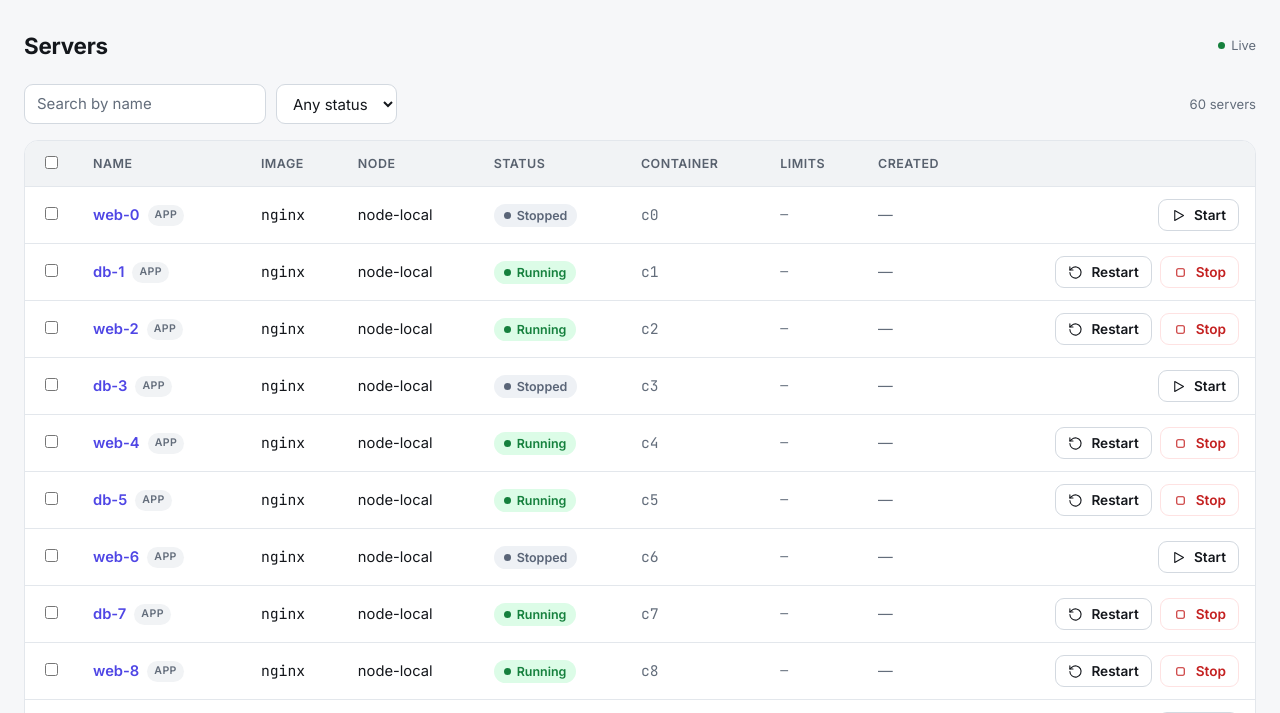
Test: Servers list at scale › sends the search to the server rather than filtering what it already has
Check: the button "web-0" is shown, box [93,204,140,227]
Type "db" into the search field named "search servers by name". click: (145, 104)
box: [24,84,266,124]
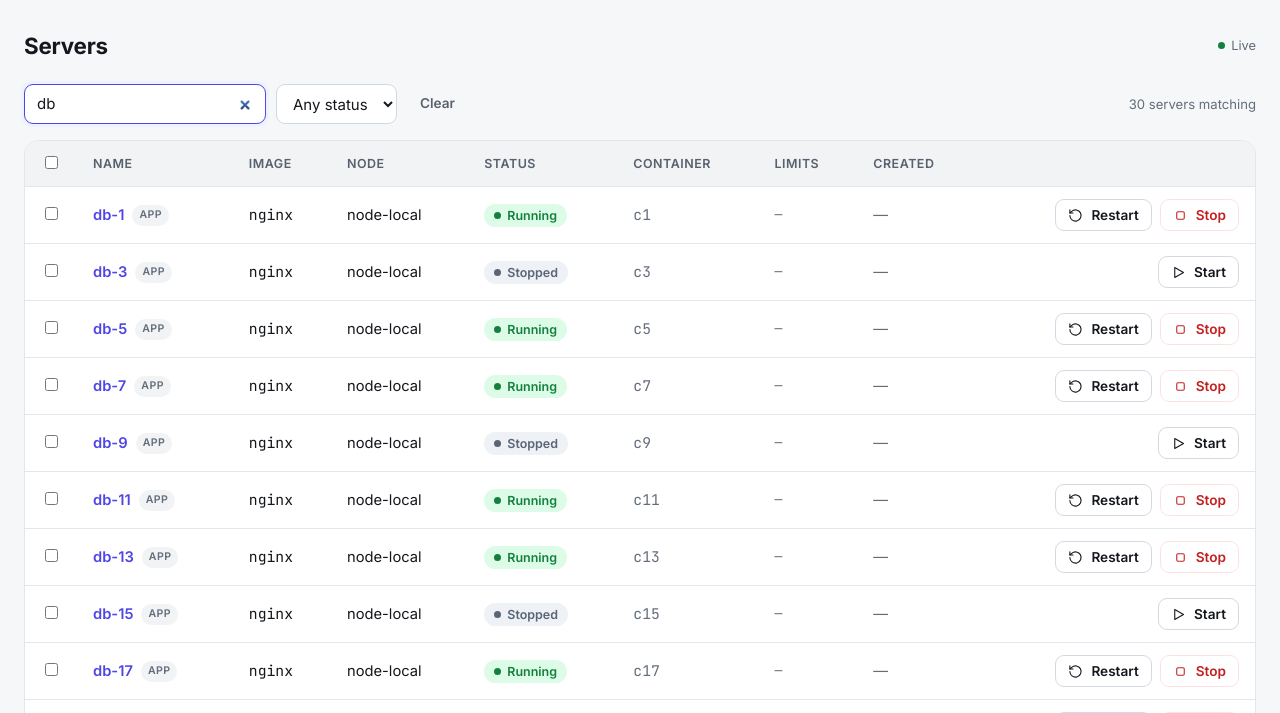
Check: the text "30 servers matching" is shown, box [1129,94,1256,114]
